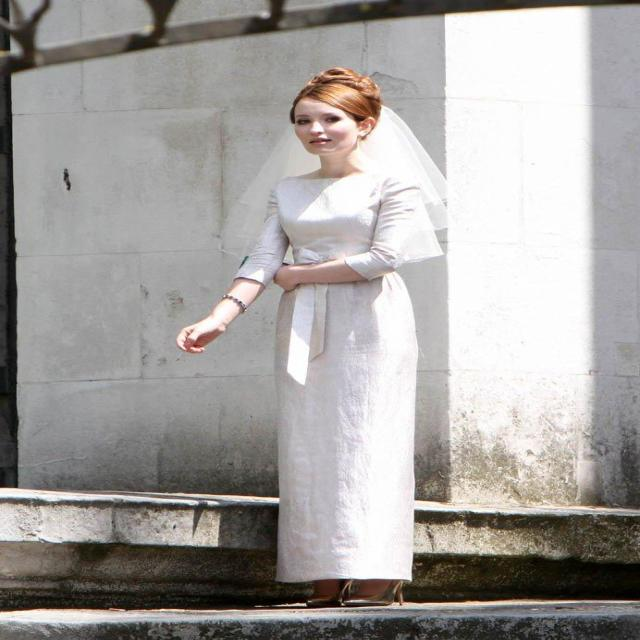Сигарета: (176, 347, 188, 362)
Тело: (180, 67, 438, 602)
